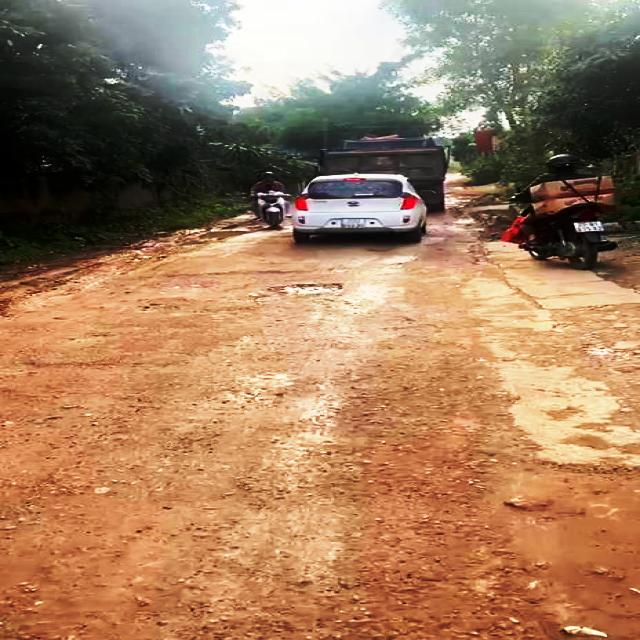pothole: (473, 456, 640, 640), (270, 281, 344, 299)
